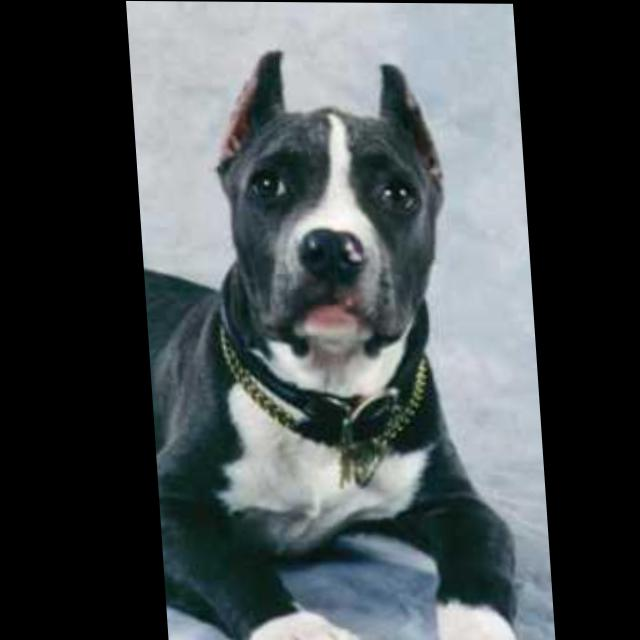staffford: (131, 48, 539, 640)
